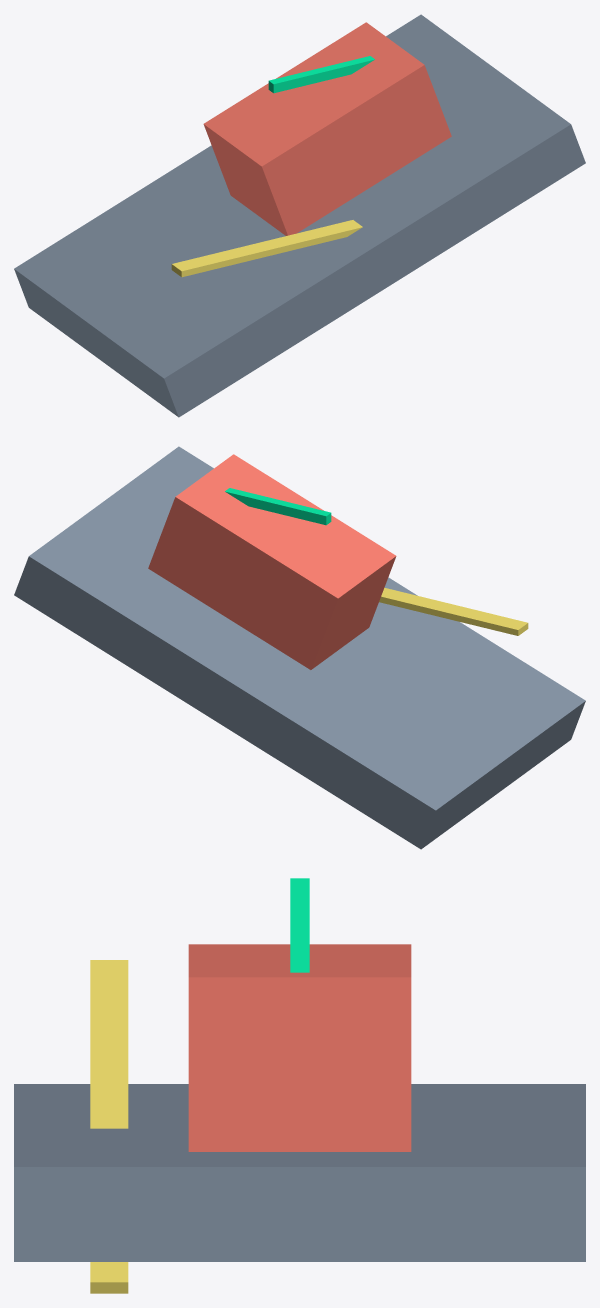
Rendered from highway_superelevation_stopping_sight_distance.glb.
3 views of the same model, one above another, from view 1: azimuth 30°, elevation 25°; view 2: azimuth 150°, elevation 25°; view 3: azimuth 270°, elevation 25° (orthographic). The views are drawn at different scales.
Visible parts, largest first — view 1: CamberedRoadwayPavementSection, PassengerVehicleSimulationModel, StoppingSightDistanceBrakingLine, CentrifugalForceLateralVector; view 2: CamberedRoadwayPavementSection, PassengerVehicleSimulationModel, StoppingSightDistanceBrakingLine, CentrifugalForceLateralVector; view 3: CamberedRoadwayPavementSection, PassengerVehicleSimulationModel, StoppingSightDistanceBrakingLine, CentrifugalForceLateralVector.
Part boxes in pixels (x1=…): CamberedRoadwayPavementSection: x1=14, y1=14, x2=585, y2=417; PassengerVehicleSimulationModel: x1=203, y1=22, x2=451, y2=235; StoppingSightDistanceBrakingLine: x1=171, y1=220, x2=362, y2=277; CentrifugalForceLateralVector: x1=268, y1=56, x2=374, y2=93; CamberedRoadwayPavementSection: x1=14, y1=446, x2=585, y2=849; PassengerVehicleSimulationModel: x1=148, y1=454, x2=396, y2=669; StoppingSightDistanceBrakingLine: x1=379, y1=587, x2=528, y2=635; CentrifugalForceLateralVector: x1=225, y1=488, x2=331, y2=525; CamberedRoadwayPavementSection: x1=14, y1=1084, x2=585, y2=1261; PassengerVehicleSimulationModel: x1=188, y1=944, x2=411, y2=1151; StoppingSightDistanceBrakingLine: x1=90, y1=960, x2=128, y2=1293; CentrifugalForceLateralVector: x1=290, y1=878, x2=309, y2=972.
Bounding box in the file's own units: 1.46 × 0.8205 × 0.9.
